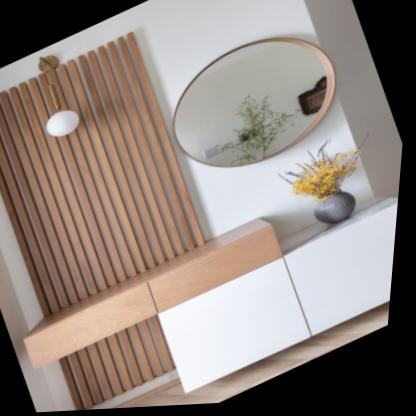Wooden floor: (94, 306, 395, 411)
